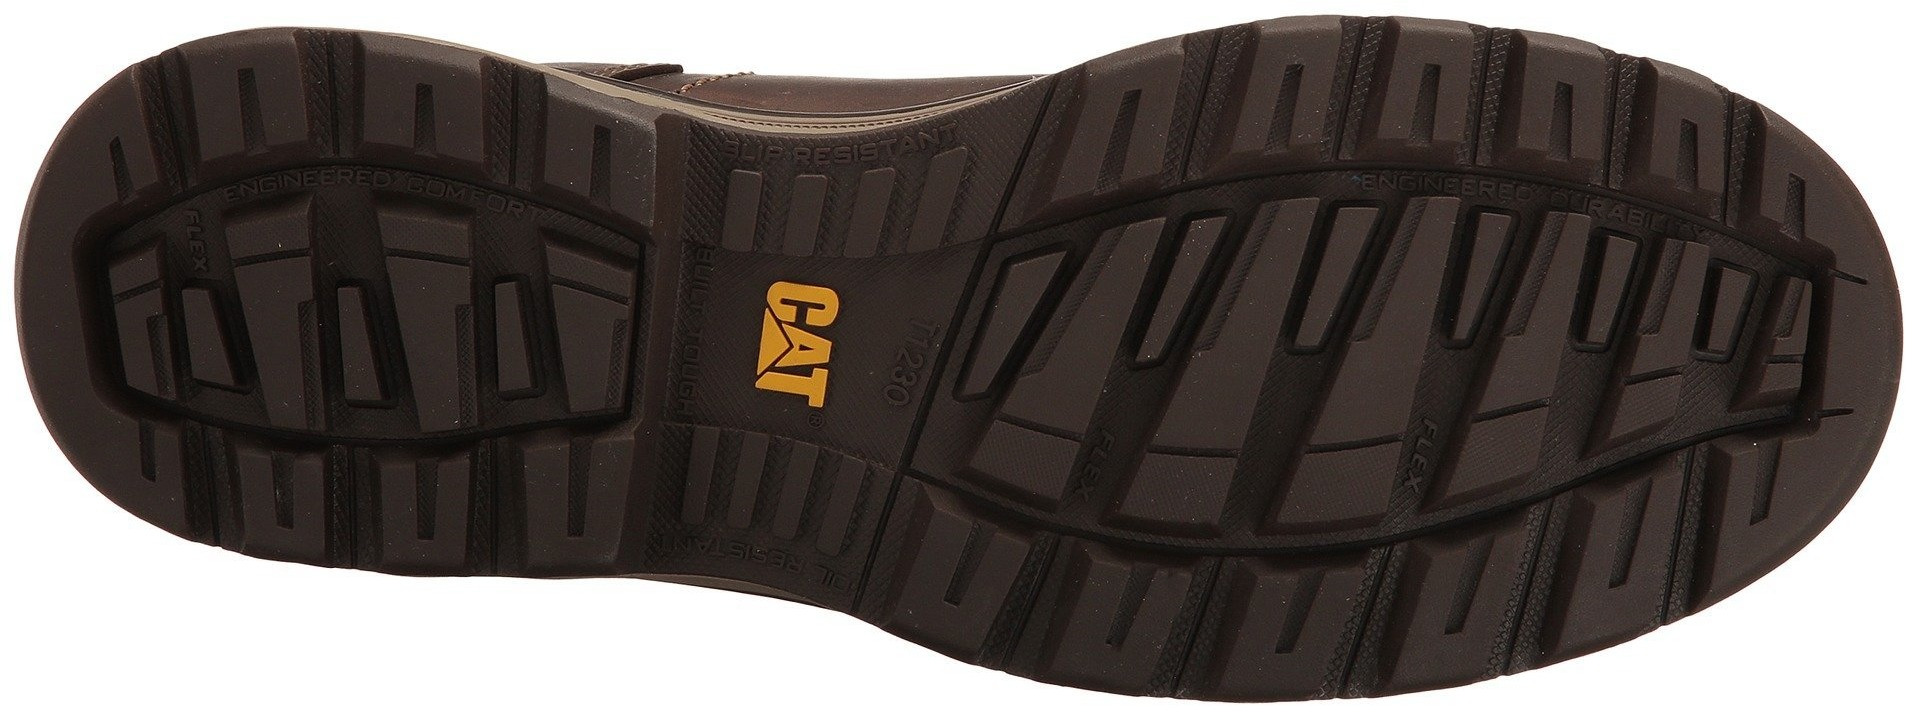line: (1429, 157, 1839, 465), (204, 173, 642, 444)
quad: (1429, 157, 1839, 465), (204, 173, 642, 444), (1155, 382, 1354, 560), (958, 388, 1112, 502), (470, 260, 560, 420), (721, 157, 831, 279), (687, 411, 796, 529)
text: (1429, 157, 1839, 465), (204, 173, 642, 444), (701, 269, 873, 446)
